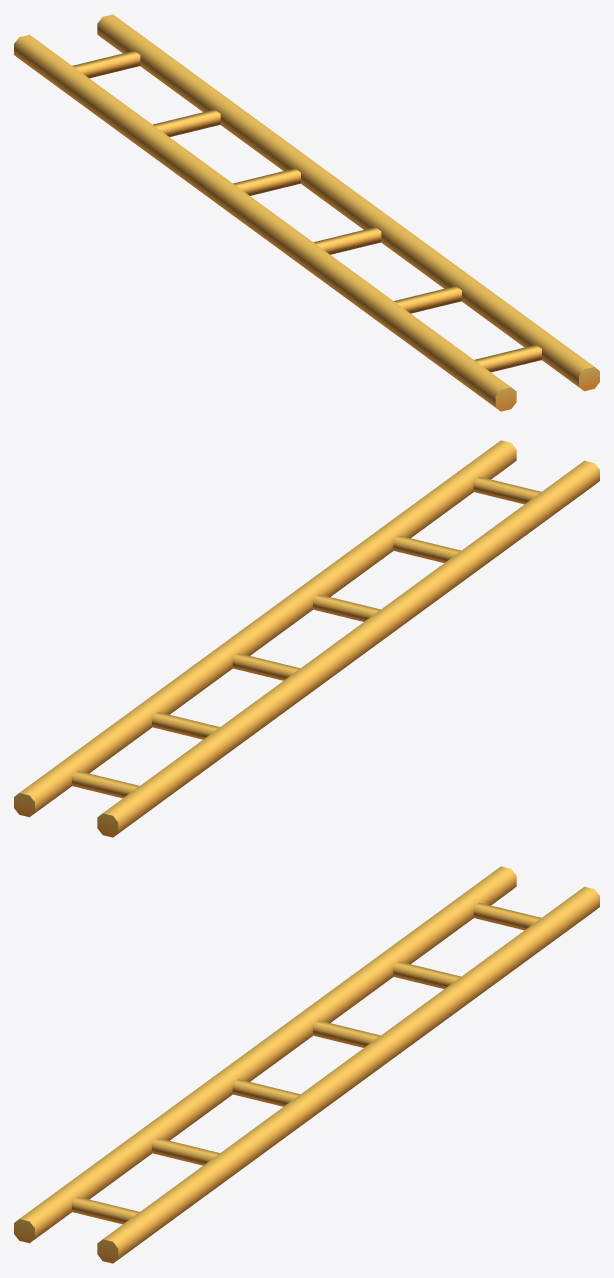
The model's file is kenney-coaster-coaster-mouse-straight.glb.
3 views of the same model, one above another, from view 1: azimuth 30°, elevation 25°; view 2: azimuth 150°, elevation 25°; view 3: azimuth 330°, elevation 25° (orthographic).
Visible parts, largest first — view 1: coaster-mouse-straight; view 2: coaster-mouse-straight; view 3: coaster-mouse-straight.
Boxes of the visible parts, x1,y1,x2,y2 form: coaster-mouse-straight: (14,14,599,411); coaster-mouse-straight: (14,440,599,837); coaster-mouse-straight: (14,866,599,1263).
Bounding box in the file's own units: 0.5 × 0.1001 × 4.
Materials: 1 (1 with a texture image).
